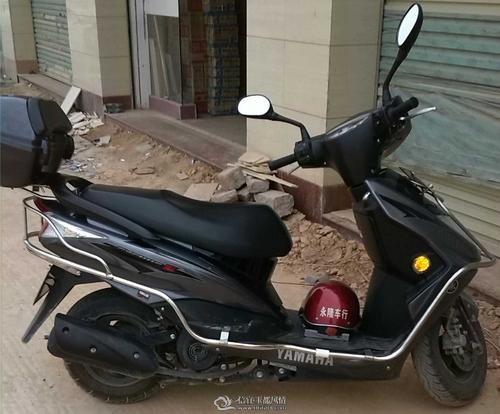motor: (15, 81, 493, 409)
